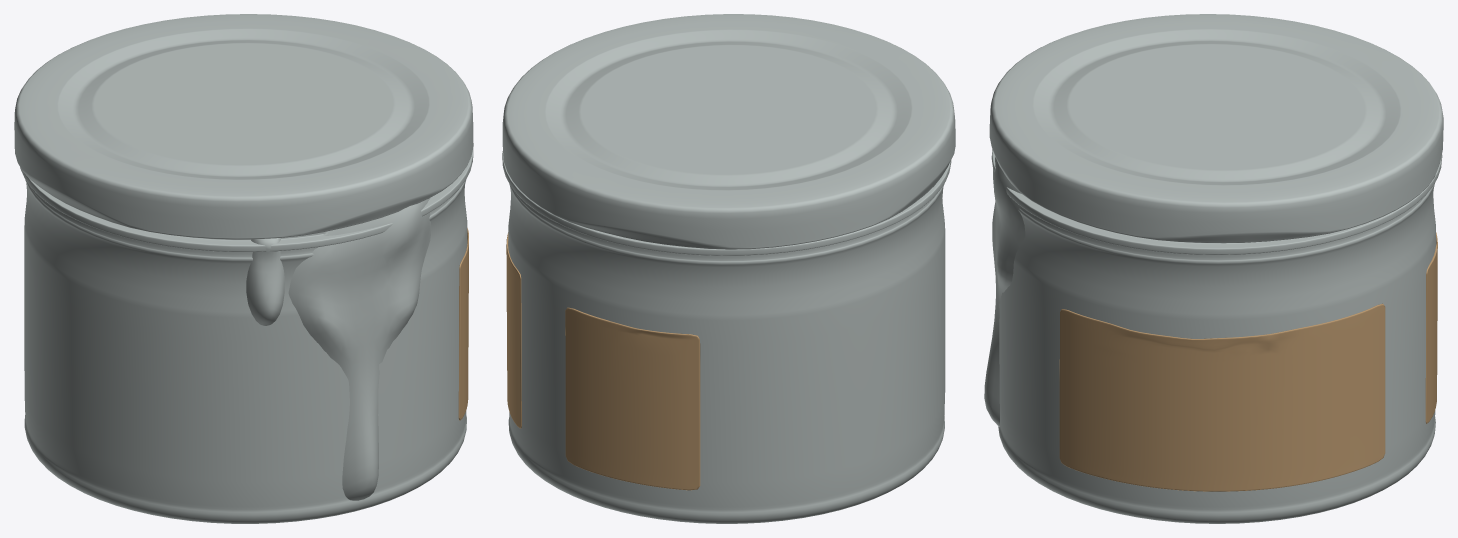
The model's file is paint_container_jar_violet_a01.glb.
3 renders of one model, left to right at view 1: azimuth 30°, elevation 25°; view 2: azimuth 150°, elevation 25°; view 3: azimuth 270°, elevation 25°, orthographic.
Bounding box in the file's own units: 0.097 × 0.0781 × 0.098.
